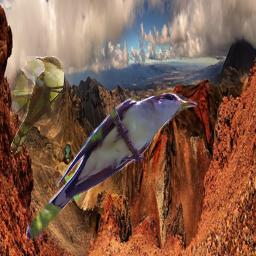Cuckoo: (26, 92, 197, 239), (10, 56, 64, 155)
